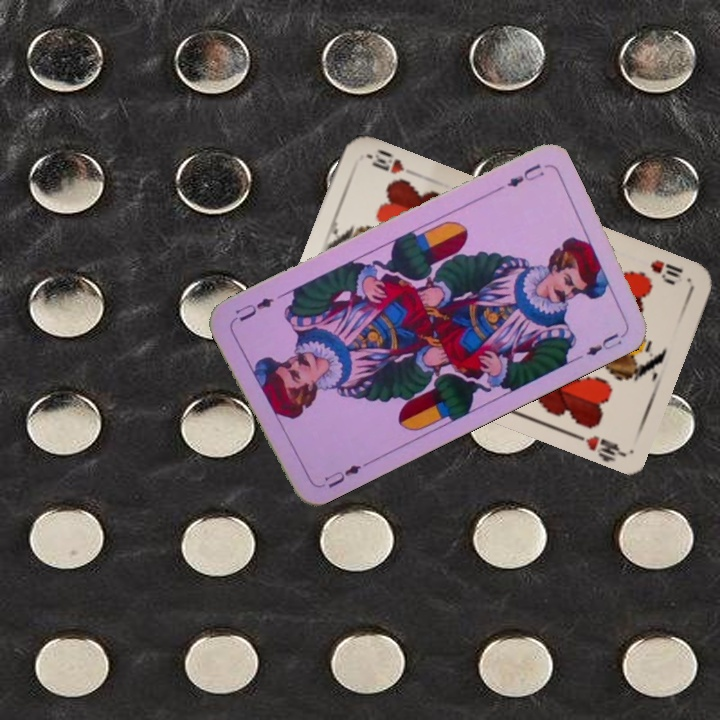EU: (313, 460, 364, 491), (503, 159, 547, 190)
H10: (645, 255, 686, 287)
